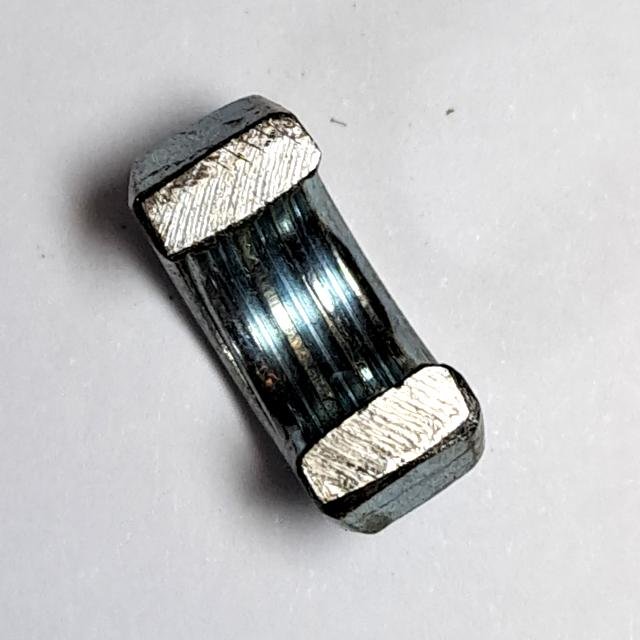Side-Fracture: (111, 76, 500, 550)
